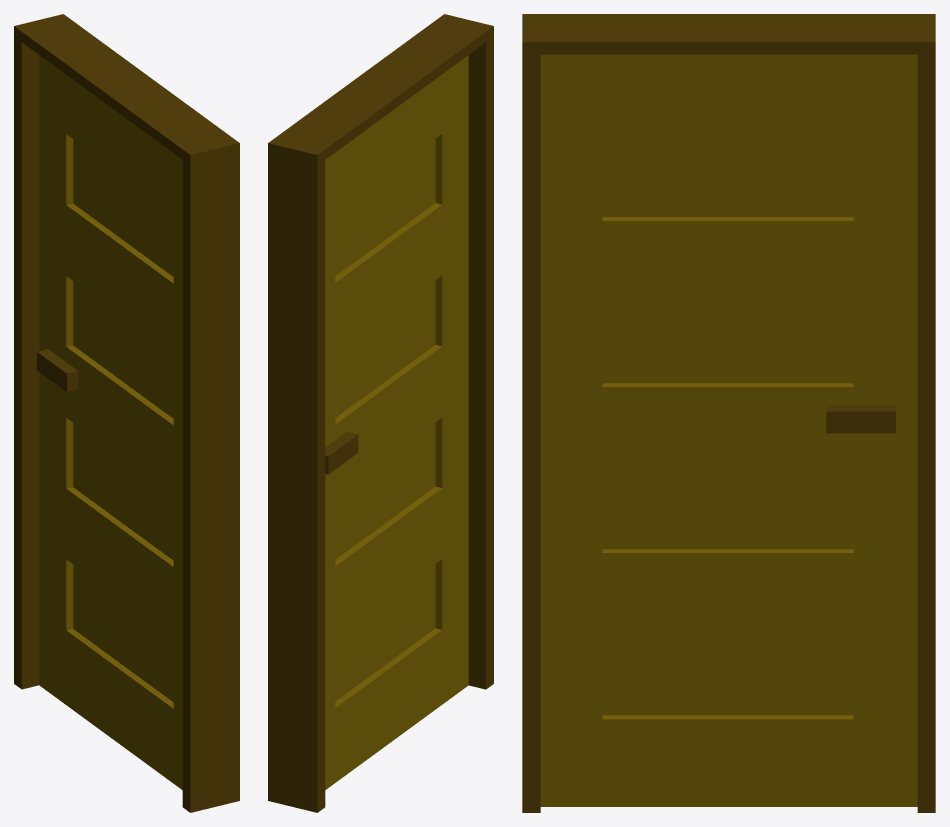
File: SimpleWoodDoor.fbx
3 renders of one model, left to right at view 1: azimuth 30°, elevation 25°; view 2: azimuth 150°, elevation 25°; view 3: azimuth 270°, elevation 25°, orthographic. The views are drawn at different scales.
Visible parts, largest first — view 1: Door, Frame; view 2: Door, Frame; view 3: Door, Frame.
Boxes of the visible parts, x1,y1,x2,y2 form: Door: (37, 55, 182, 789); Frame: (14, 14, 239, 812); Door: (325, 55, 468, 789); Frame: (268, 14, 493, 812); Door: (540, 54, 917, 806); Frame: (522, 14, 935, 812).
Size of the model in its own units: 32.17 by 404 by 196.
